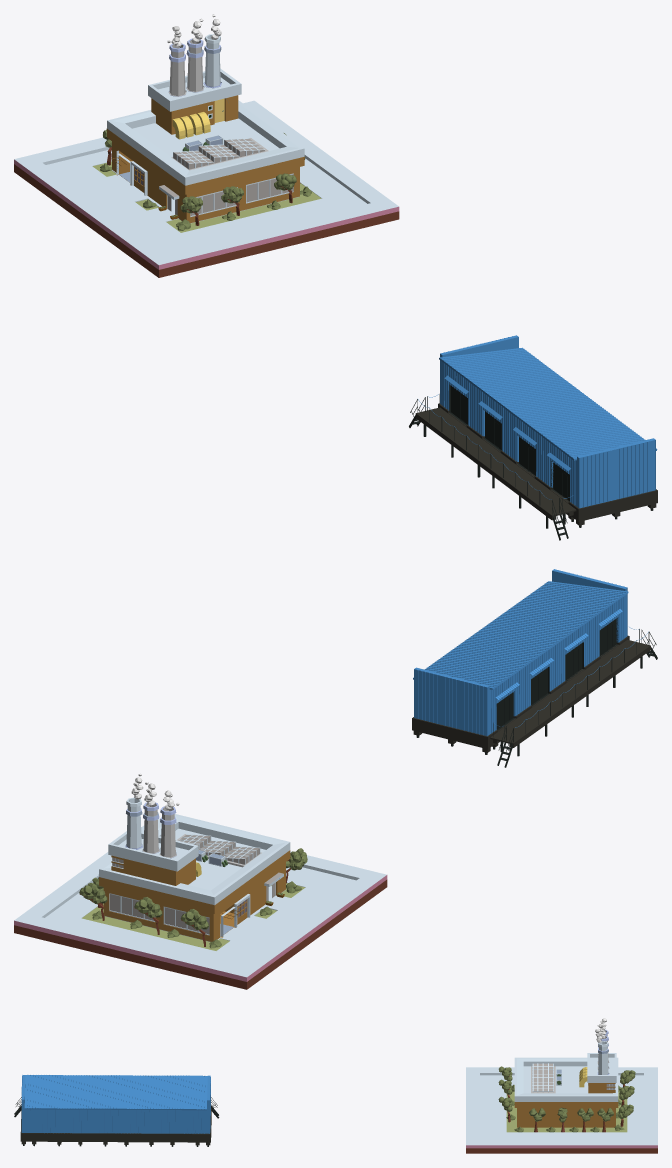
File: demo_model.glb
3 views of the same model, one above another, from view 1: azimuth 30°, elevation 25°; view 2: azimuth 150°, elevation 25°; view 3: azimuth 270°, elevation 25° (orthographic). The views are drawn at different scales.
Parts seen in each view (by area): view 1: Buffer Object (×5), Box212; view 2: Buffer Object (×5), Box212; view 3: Buffer Object (×4).
Part boxes in pixels (bbox=[...]): Buffer Object (×5): bbox=[14, 34, 657, 525]; Box212: bbox=[415, 407, 576, 520]; Buffer Object (×5): bbox=[14, 569, 629, 989]; Box212: bbox=[490, 639, 650, 747]; Buffer Object (×4): bbox=[20, 1029, 657, 1153].
Size of the model in its own units: 35.94 by 25.97 by 126.
Materials: 15 (7 with a texture image).
